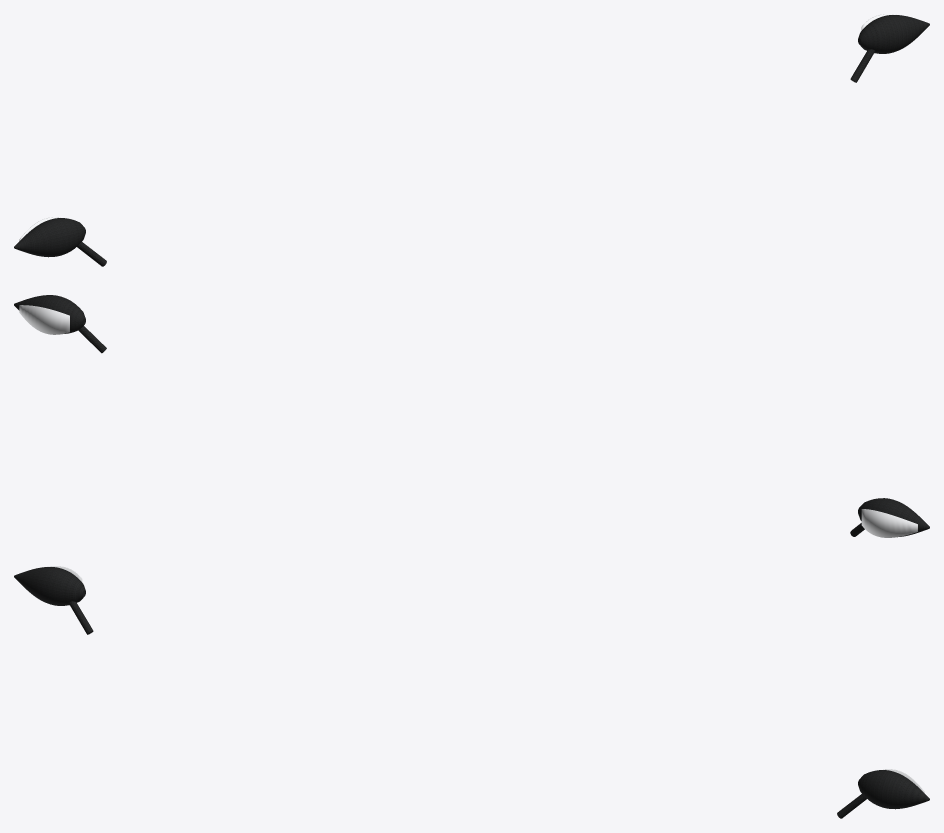
Rendered from DT49_aero_mirrors.glb.
3 views of the same model, one above another, from view 1: azimuth 30°, elevation 25°; view 2: azimuth 150°, elevation 25°; view 3: azimuth 330°, elevation 25° (orthographic).
Parts seen in each view (by area): view 1: MOD_ND_DT49_head_R, MOD_ND_DT49_head_L; view 2: MOD_ND_DT49_glass_R, MOD_ND_DT49_glass_L, MOD_ND_DT49_head_L, MOD_ND_DT49_head_R; view 3: MOD_ND_DT49_head_L, MOD_ND_DT49_head_R.
Boxes of the visible parts, <box> form: MOD_ND_DT49_head_R: <box>14,218,85,257</box>; MOD_ND_DT49_head_L: <box>858,15,929,53</box>; MOD_ND_DT49_glass_R: <box>861,509,917,537</box>; MOD_ND_DT49_glass_L: <box>19,305,69,334</box>; MOD_ND_DT49_head_L: <box>14,295,85,333</box>; MOD_ND_DT49_head_R: <box>858,498,929,537</box>; MOD_ND_DT49_head_L: <box>858,770,929,809</box>; MOD_ND_DT49_head_R: <box>14,567,85,605</box>.
Bounding box in the file's own units: 1.97 × 0.1049 × 0.0665.
2 materials, 1 textured.
